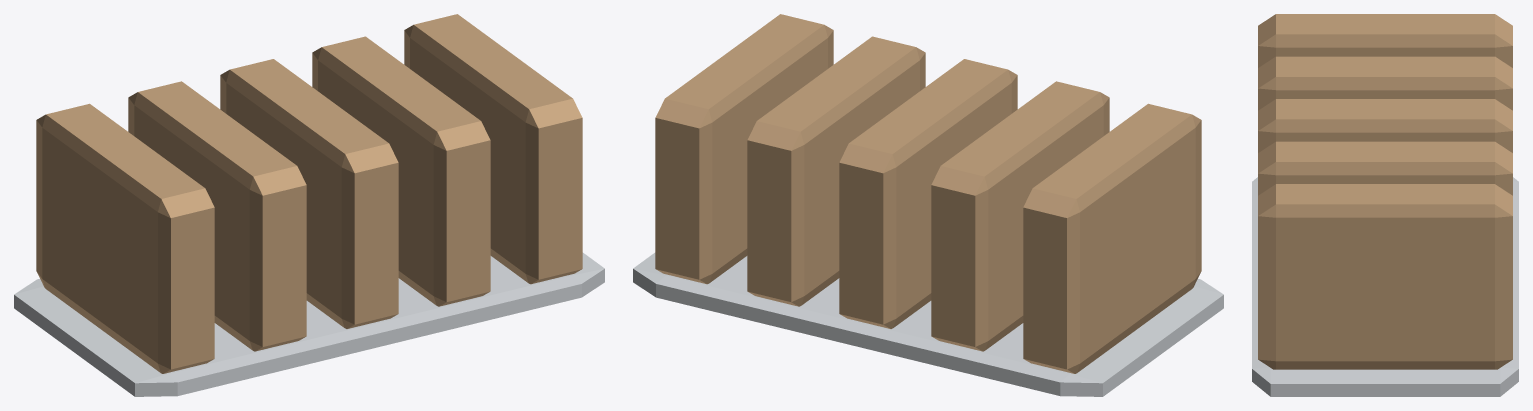
File: b01_outdoor_chess_pedestal_table.glb
The picture shows the model from 3 angles, left to right: view 1: azimuth 30°, elevation 25°; view 2: azimuth 150°, elevation 25°; view 3: azimuth 270°, elevation 25°; orthographic projection. The views are drawn at different scales.
Parts seen in each view (by area): view 1: b01_outdoor_chess_pedestal_table; view 2: b01_outdoor_chess_pedestal_table; view 3: b01_outdoor_chess_pedestal_table.
Boxes of the visible parts, x1,y1,x2,y2 form: b01_outdoor_chess_pedestal_table: (14,14,604,396); b01_outdoor_chess_pedestal_table: (633,14,1223,396); b01_outdoor_chess_pedestal_table: (1252,14,1518,396).
Size of the model in its own units: 2.12 by 0.819 by 1.1.
